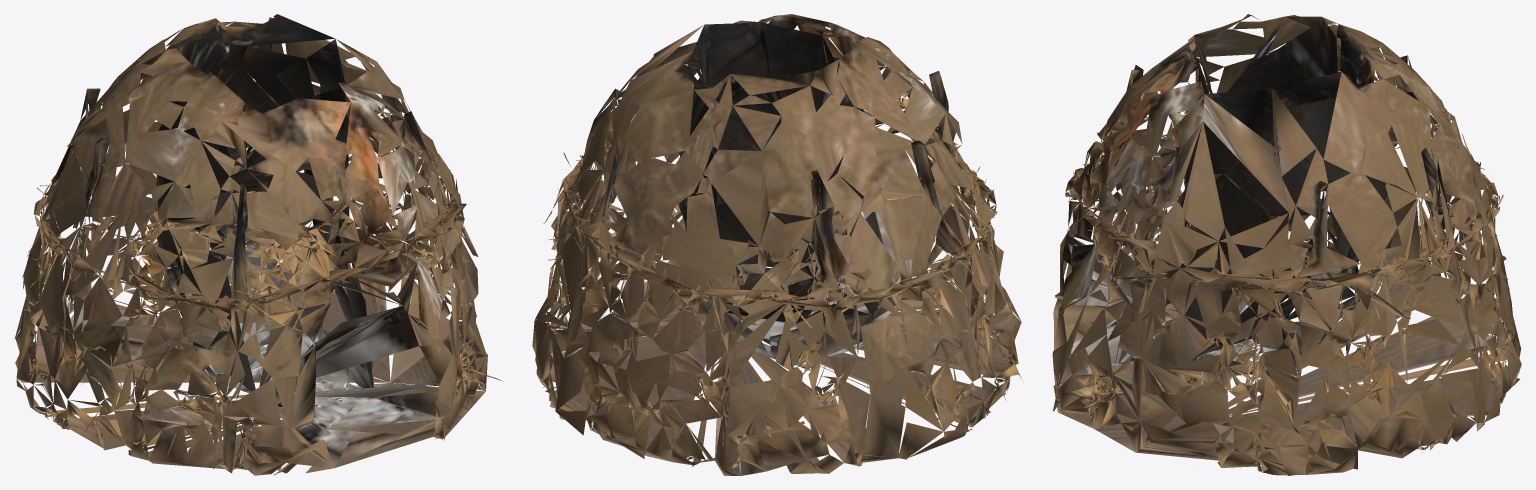
Rendered from feuerstelle.glb.
The picture shows the model from 3 angles, left to right: view 1: azimuth 30°, elevation 25°; view 2: azimuth 150°, elevation 25°; view 3: azimuth 270°, elevation 25°; orthographic projection.
Size of the model in its own units: 1.88 by 1.43 by 1.83.
Materials: 1 (1 with a texture image).
